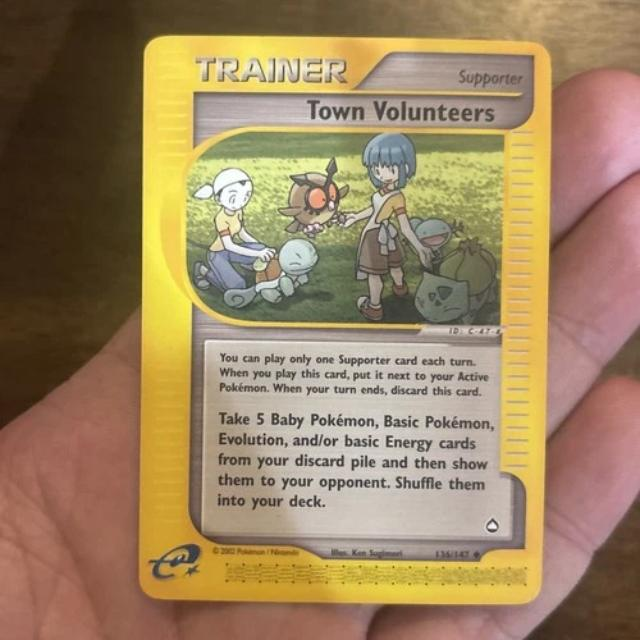Card: (133, 28, 557, 612)
Name: (297, 97, 507, 130)
